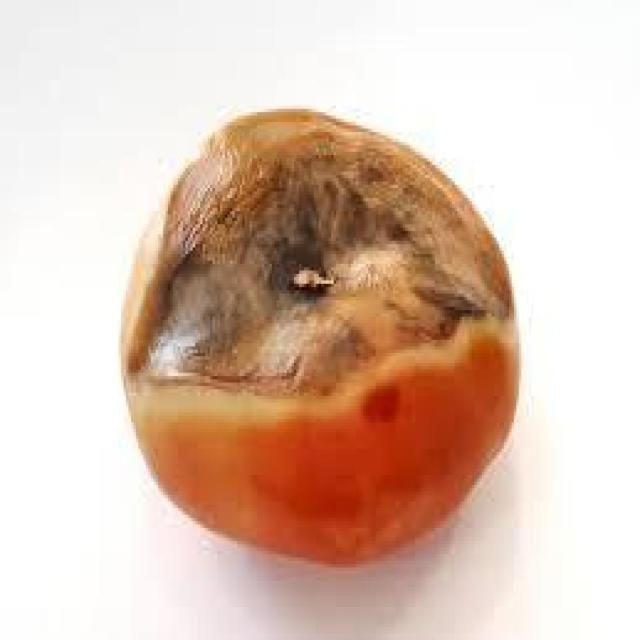Blossom End Rot Fruit: (75, 69, 345, 267)
